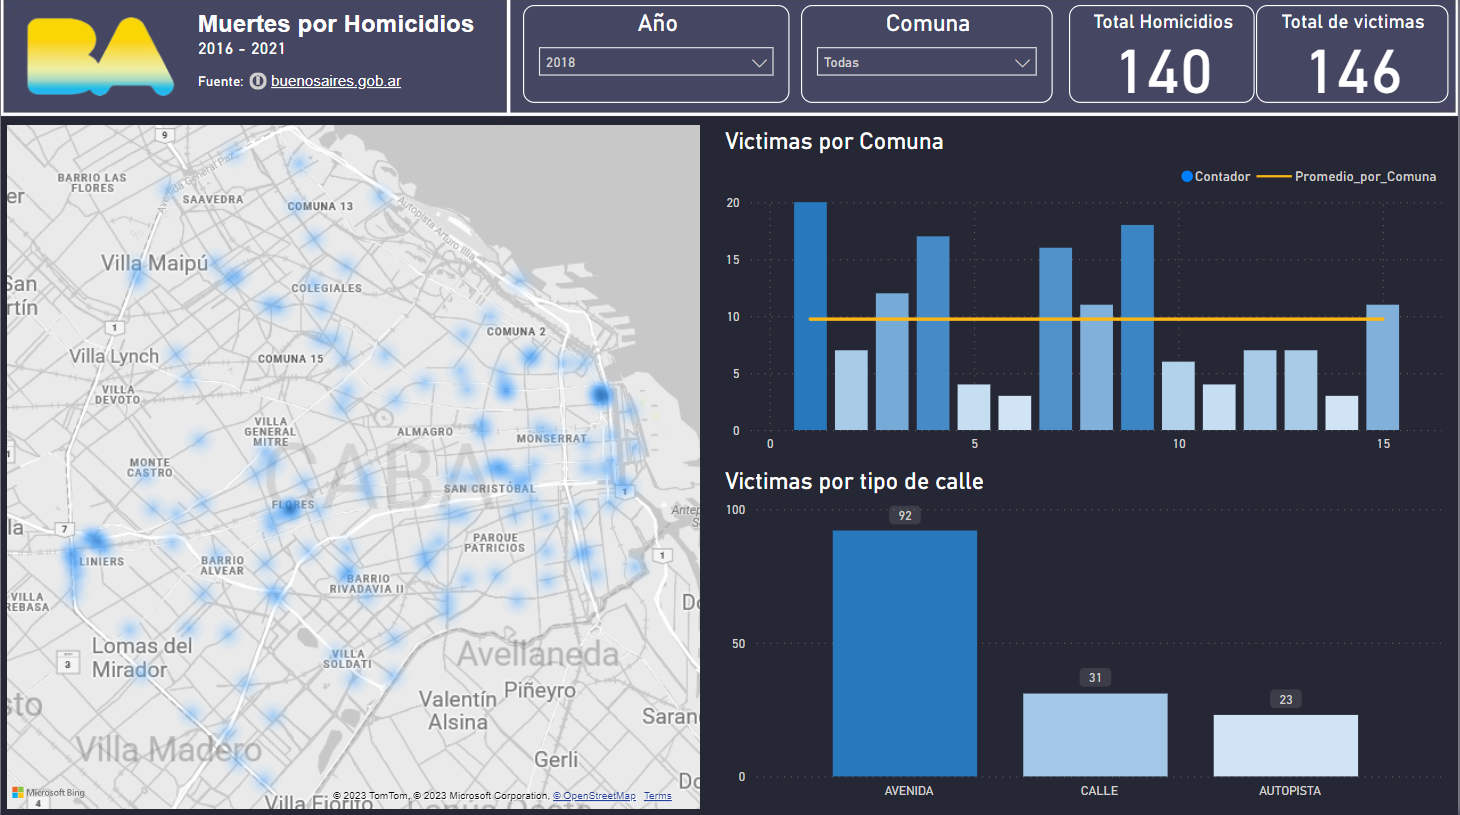

The page's visual inventory and layout, read from the dashboard file:
{"tool":"powerbi","page":{"name":"Ubicacion","canvas":[1280,720],"ordinal":2},"visuals":[{"type":"map","fields":{"Y":["homicidios.latitud"],"X":["homicidios.longitud"]},"box":[0,108.9,619,611.1],"z":0},{"type":"slicer","title":"Comuna","fields":{"Values":["homicidios.comuna"]},"box":[702.4,8.8,221.3,86],"z":1000},{"type":"columnChart","title":"Victimas por tipo de calle","fields":{"Category":["homicidios.tipo_calle"],"Y":["CountNonNull(homicidios.tipo_calle)"]},"box":[630.4,414.4,640.1,297.7],"z":2000},{"type":"card","title":"Total de victimas","fields":{"Values":["homicidios.Contador"]},"box":[1102,8.8,168.6,86],"z":3000},{"type":"card","title":"Total Homicidios","fields":{"Values":["Count(homicidios.ID)"]},"box":[937.8,8.8,163.3,86],"z":4000},{"type":"lineClusteredColumnComboChart","title":"Victimas por Comuna","fields":{"Category":["homicidios.comuna"],"Y":["homicidios.Contador"],"Y2":["homicidios.Promedio_por_Comuna"]},"box":[630.4,115.9,640.1,292.4],"z":5000},{"type":"slicer","title":"Año","fields":{"Values":["homicidios.fecha.Variación.Jerarquía de fechas.Año"]},"box":[458.3,8.8,234.4,86],"z":6000},{"type":"textbox","box":[167.7,8.8,265.2,89.6],"z":7000},{"type":"image","box":[17.6,9.7,140.5,88.7],"z":8000},{"type":"actionButton","box":[214.2,64.1,150.1,22.8],"z":9000}]}

Visuals, with their boxes in screenshot pixels (x1, y1, x2, y2), scaled from the page's 1280x720 canvas onto the 1460x815 screenshot:
map - homicidios.latitud x homicidios.longitud: Rect(0, 123, 706, 814)
"Comuna" slicer: Rect(801, 10, 1054, 107)
"Victimas por tipo de calle" columnChart: Rect(719, 469, 1449, 806)
"Total de victimas" card: Rect(1257, 10, 1449, 107)
"Total Homicidios" card: Rect(1070, 10, 1256, 107)
"Victimas por Comuna" lineClusteredColumnComboChart: Rect(719, 131, 1449, 462)
"Año" slicer: Rect(523, 10, 790, 107)
textbox: Rect(191, 10, 494, 111)
image: Rect(20, 11, 180, 111)
actionButton: Rect(244, 73, 416, 98)
